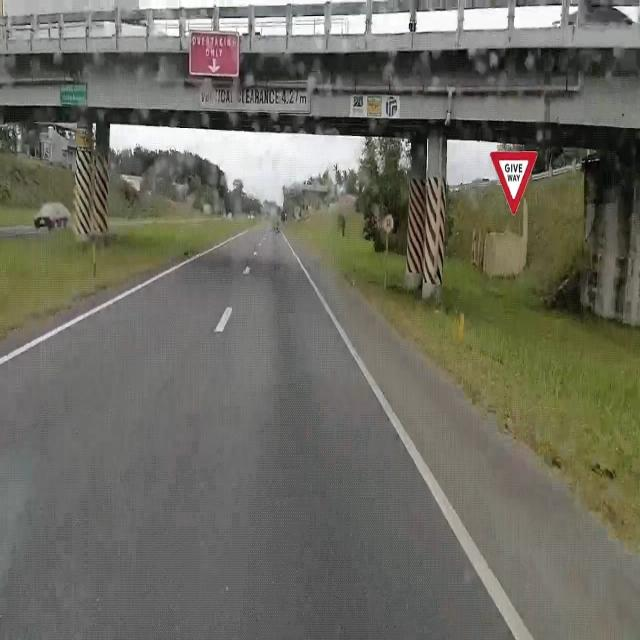Ceder-le-Passage: (486, 144, 546, 228)
